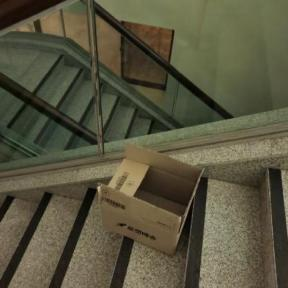box: (86, 135, 210, 263)
